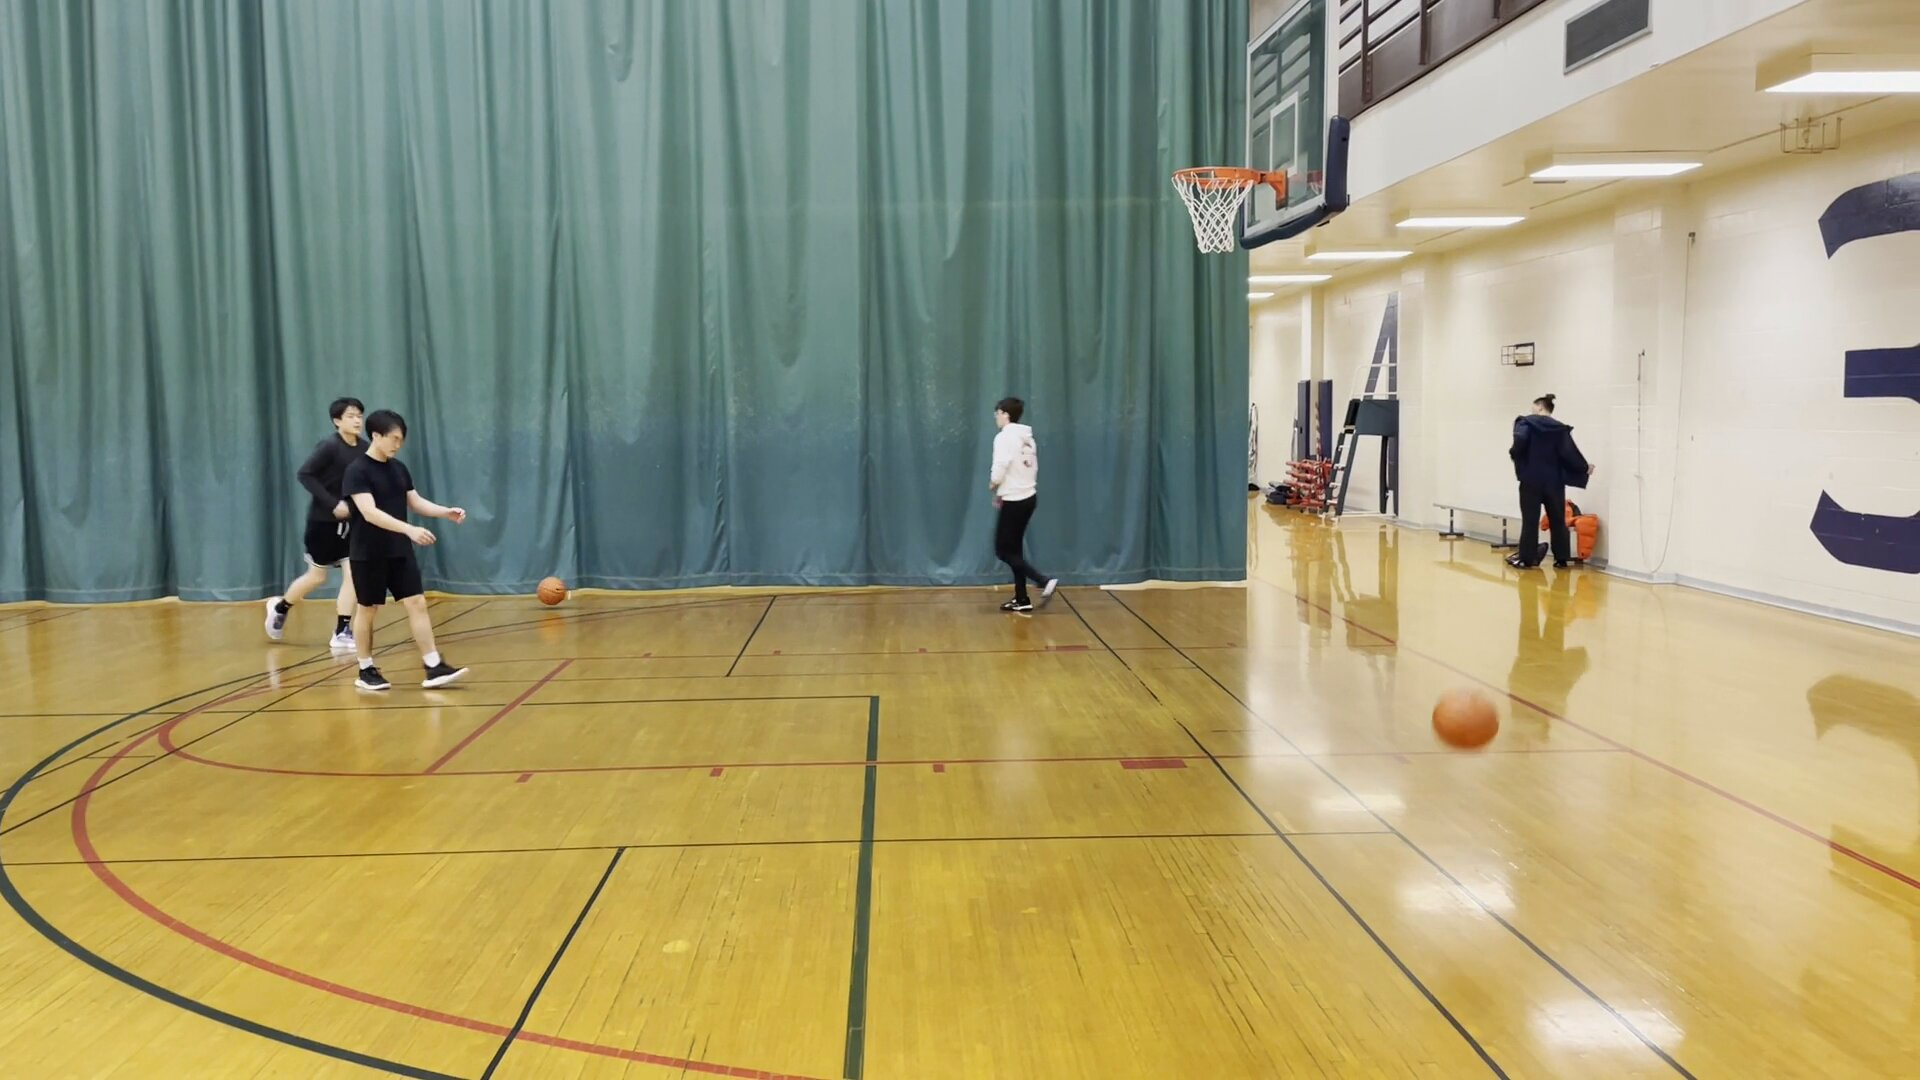ball: (1429, 686, 1508, 757), (535, 577, 567, 612)
net: (1184, 225, 1241, 259)
player: (338, 407, 483, 701), (259, 387, 373, 654), (981, 393, 1064, 615), (1501, 384, 1588, 578)
rim: (1163, 162, 1267, 192)
